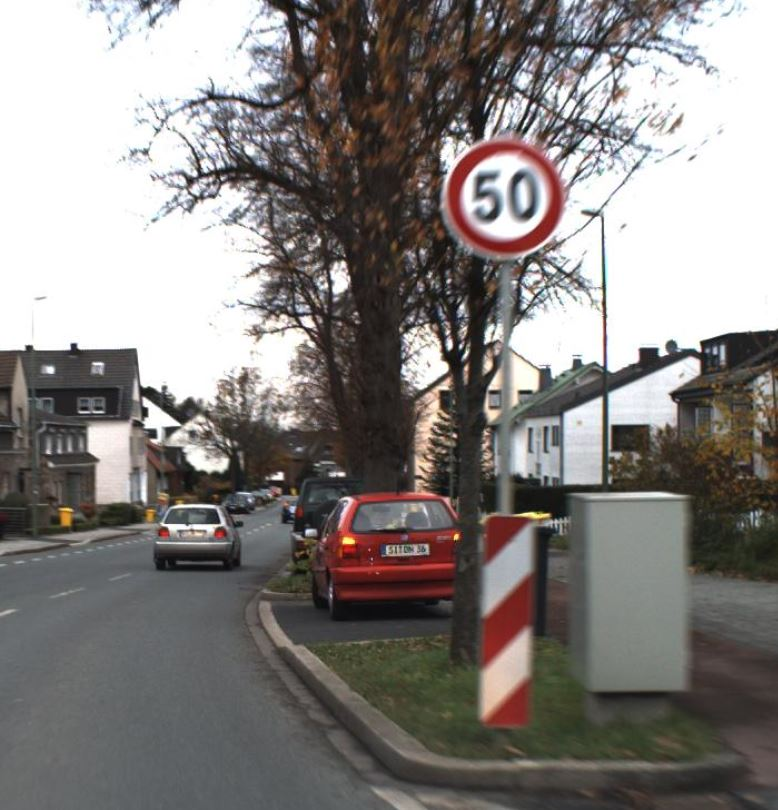50 Km Hiz Siniri: (447, 139, 571, 260)
